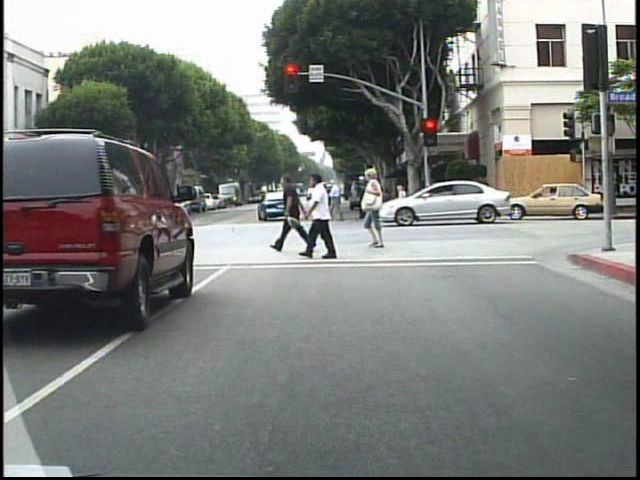person: (309, 170, 344, 260), (279, 169, 311, 260), (362, 168, 395, 252), (350, 172, 369, 224), (472, 169, 492, 215), (149, 182, 166, 232), (121, 184, 139, 229), (318, 181, 337, 223), (368, 178, 386, 222), (4, 194, 21, 238), (331, 178, 344, 225), (5, 199, 20, 236)
